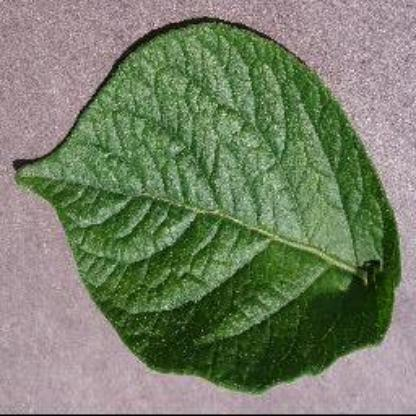Healthy-plant: (16, 18, 402, 394)
